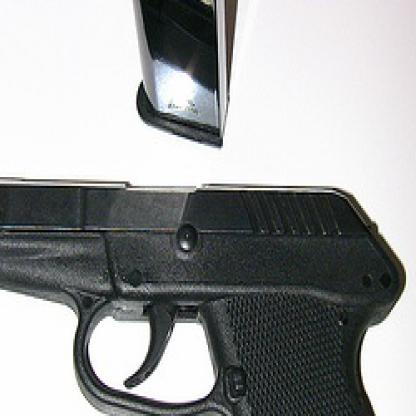gun: (0, 175, 408, 414)
